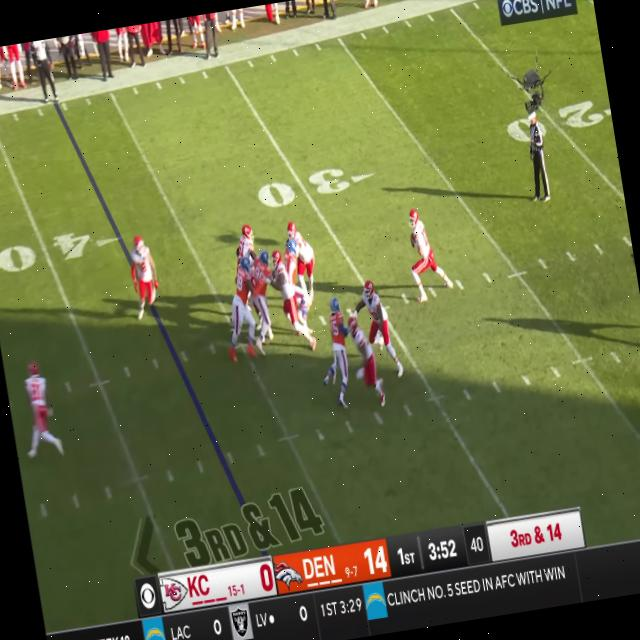Player: (357, 276, 404, 382), (399, 205, 447, 308), (218, 260, 263, 368), (19, 354, 61, 466), (320, 294, 358, 410), (244, 252, 283, 356), (347, 314, 388, 410), (270, 248, 307, 352), (124, 235, 166, 320), (287, 220, 320, 303)
Referee: (522, 112, 554, 204)
